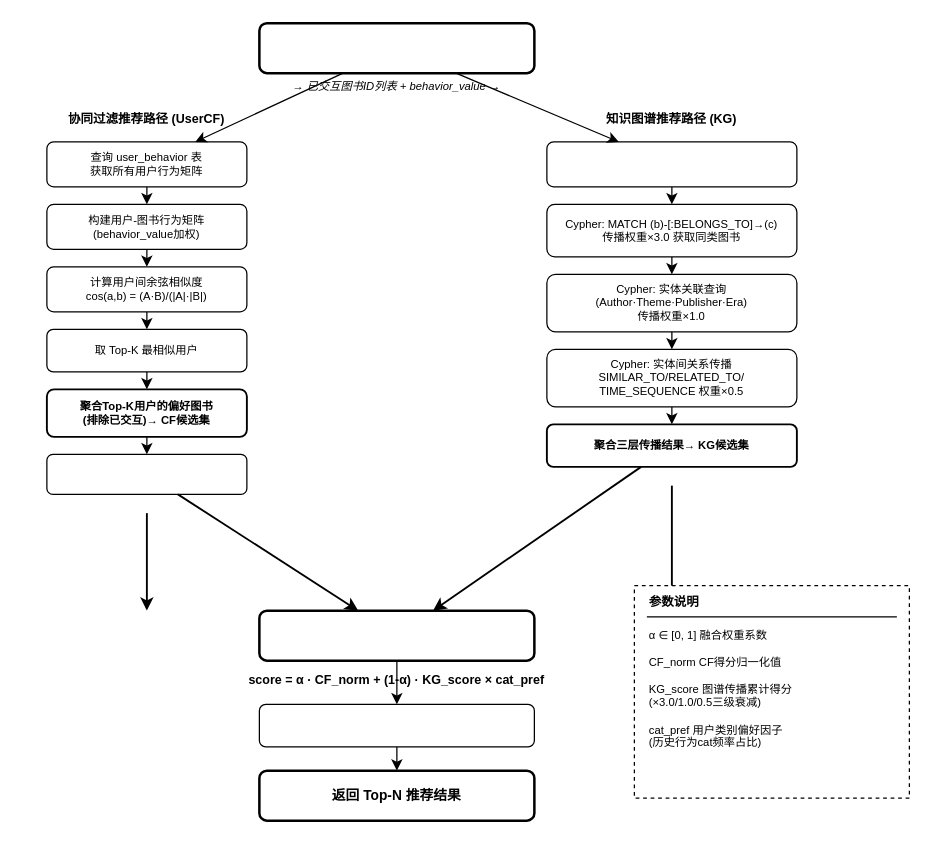
This 931x843 diagram has some shape labels left out. The centre of each missing label's shape, as x and y in pixels:
Min-Max 归一化得分: the point at 146,473
按排序得分查询 MySQL 获取图书详情: the point at 396,725
查询用户已交互图书category_id: the point at 671,164
混合排序融合: the point at 396,635
用户交互历史 (user_id): the point at 396,47
